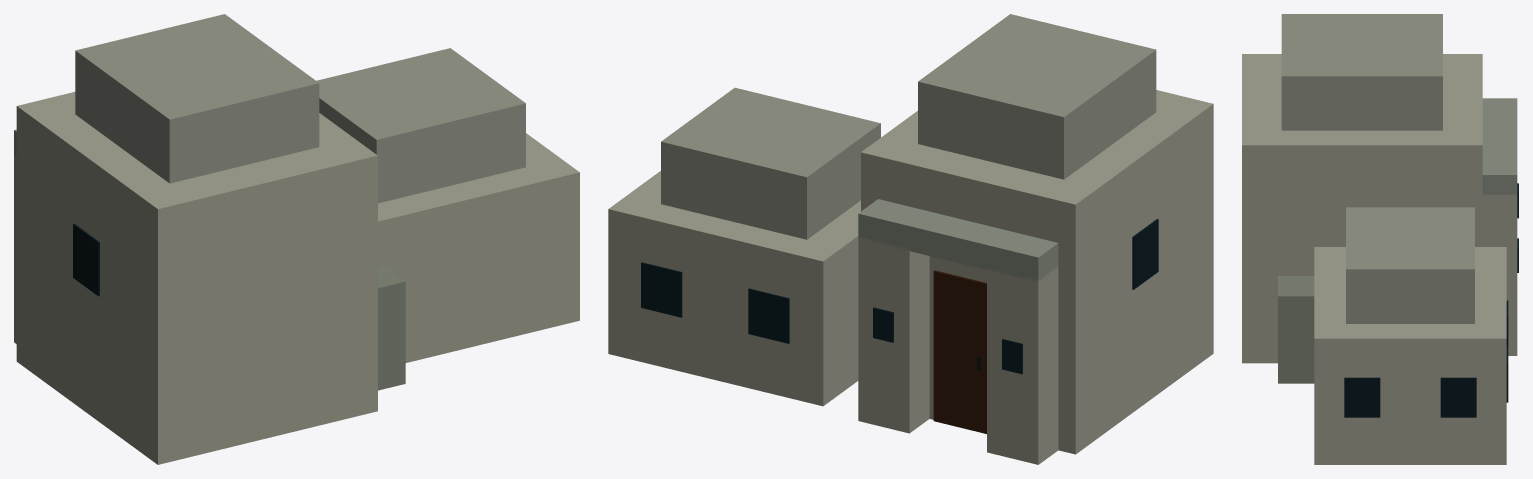
Rendered from SM_VisitorCentre.fbx.
3 views of the same model, side by side, from view 1: azimuth 30°, elevation 25°; view 2: azimuth 150°, elevation 25°; view 3: azimuth 270°, elevation 25° (orthographic). The views are drawn at different scales.
Parts seen in each view (by area): view 1: SM_VisitorCentre • FBX; view 2: SM_VisitorCentre • FBX; view 3: SM_VisitorCentre • FBX.
Part boxes in pixels (x1=…): SM_VisitorCentre • FBX: x1=14, y1=14, x2=579, y2=464; SM_VisitorCentre • FBX: x1=608, y1=14, x2=1213, y2=464; SM_VisitorCentre • FBX: x1=1242, y1=14, x2=1518, y2=464.
Bounding box in the file's own units: 1913 × 1151 × 1250.
